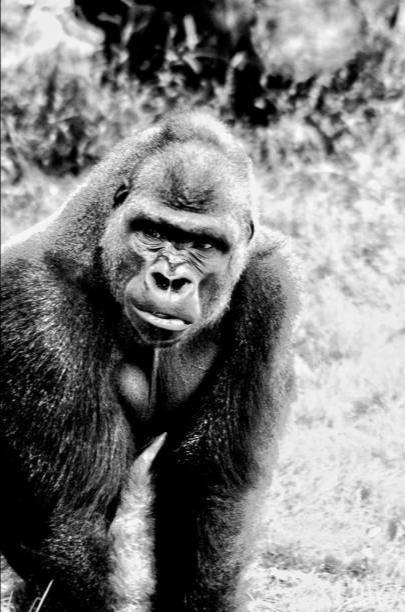gorille_Autres: (2, 109, 396, 612)
